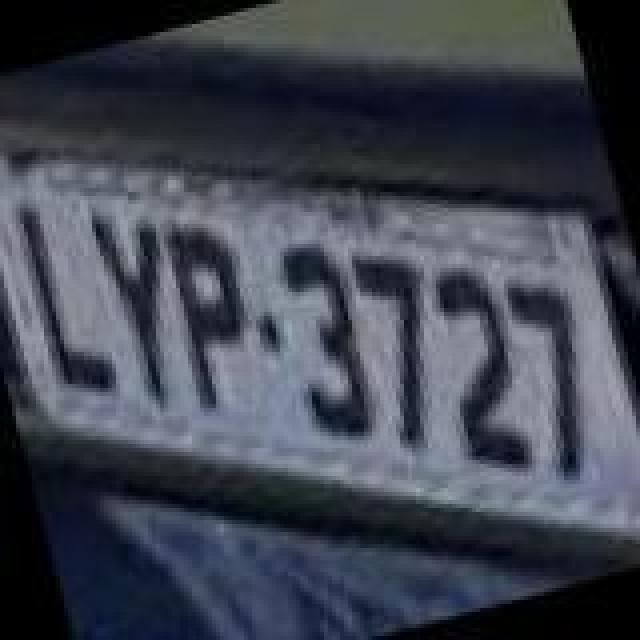2: (416, 260, 544, 492)
3: (266, 230, 390, 450)
7: (496, 264, 616, 488), (344, 238, 464, 450)
L: (6, 192, 122, 408)
P: (150, 210, 274, 414)
Y: (82, 194, 206, 414)
